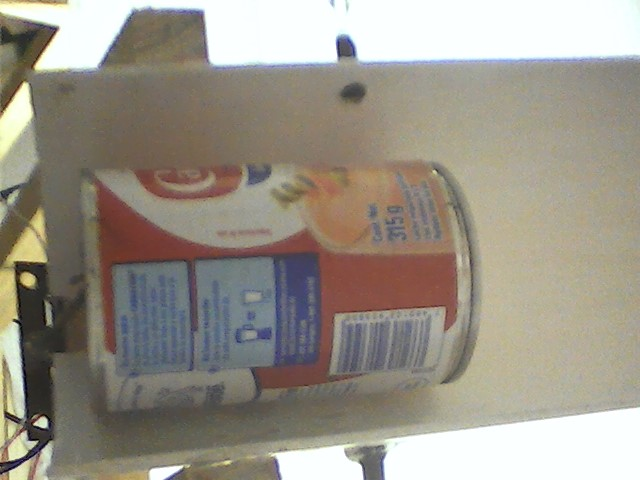lata: (67, 152, 496, 418)
